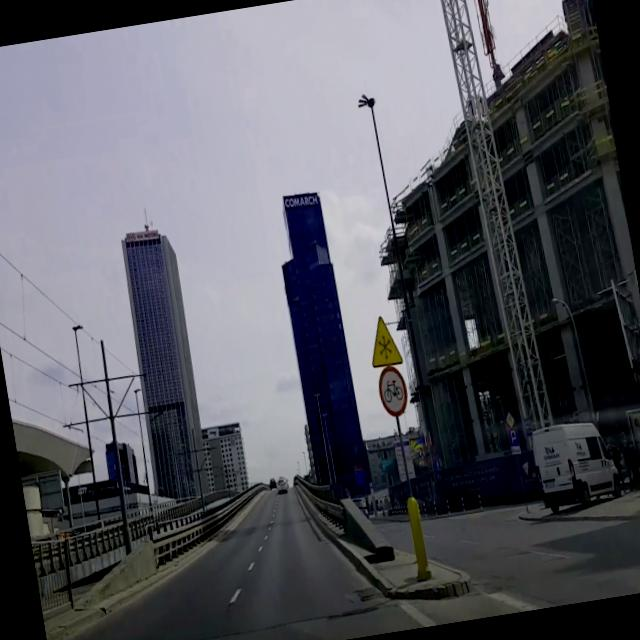Droga z pierwszenstwem: (504, 411, 516, 429)
